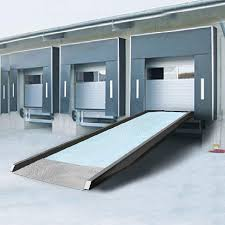Yard Ramp: (9, 111, 194, 191)
